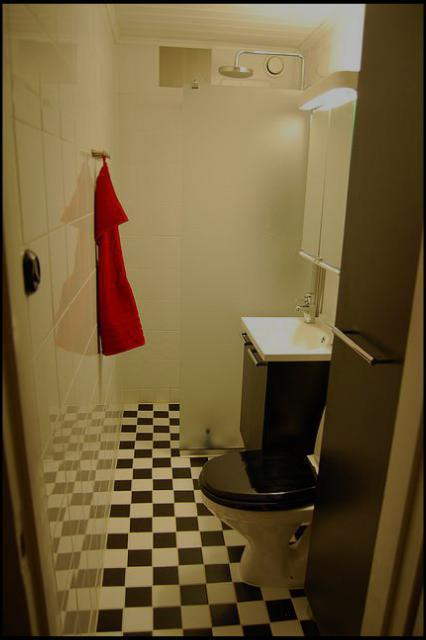Ducha: (178, 42, 310, 452)
Lavamanos: (235, 295, 343, 366)
